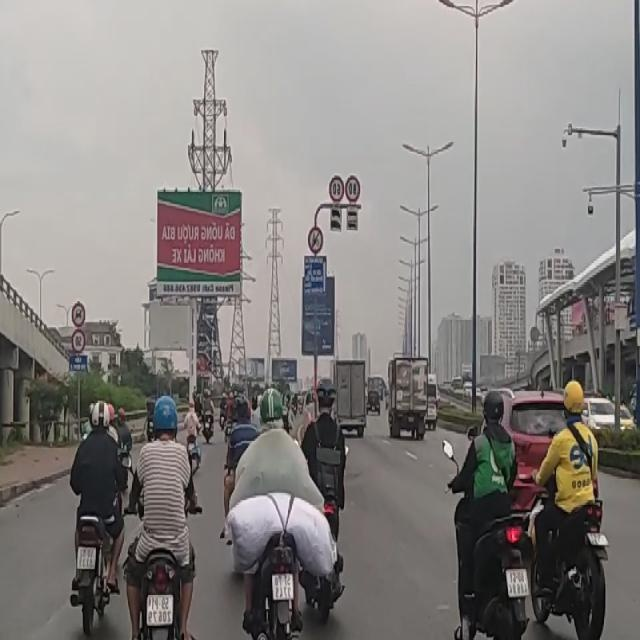P.103a: (72, 302, 86, 326)
P.104: (306, 225, 324, 255)
P.127*50: (72, 330, 86, 356)
P.127*60: (330, 176, 344, 202)
P.127*80: (346, 175, 362, 203)
